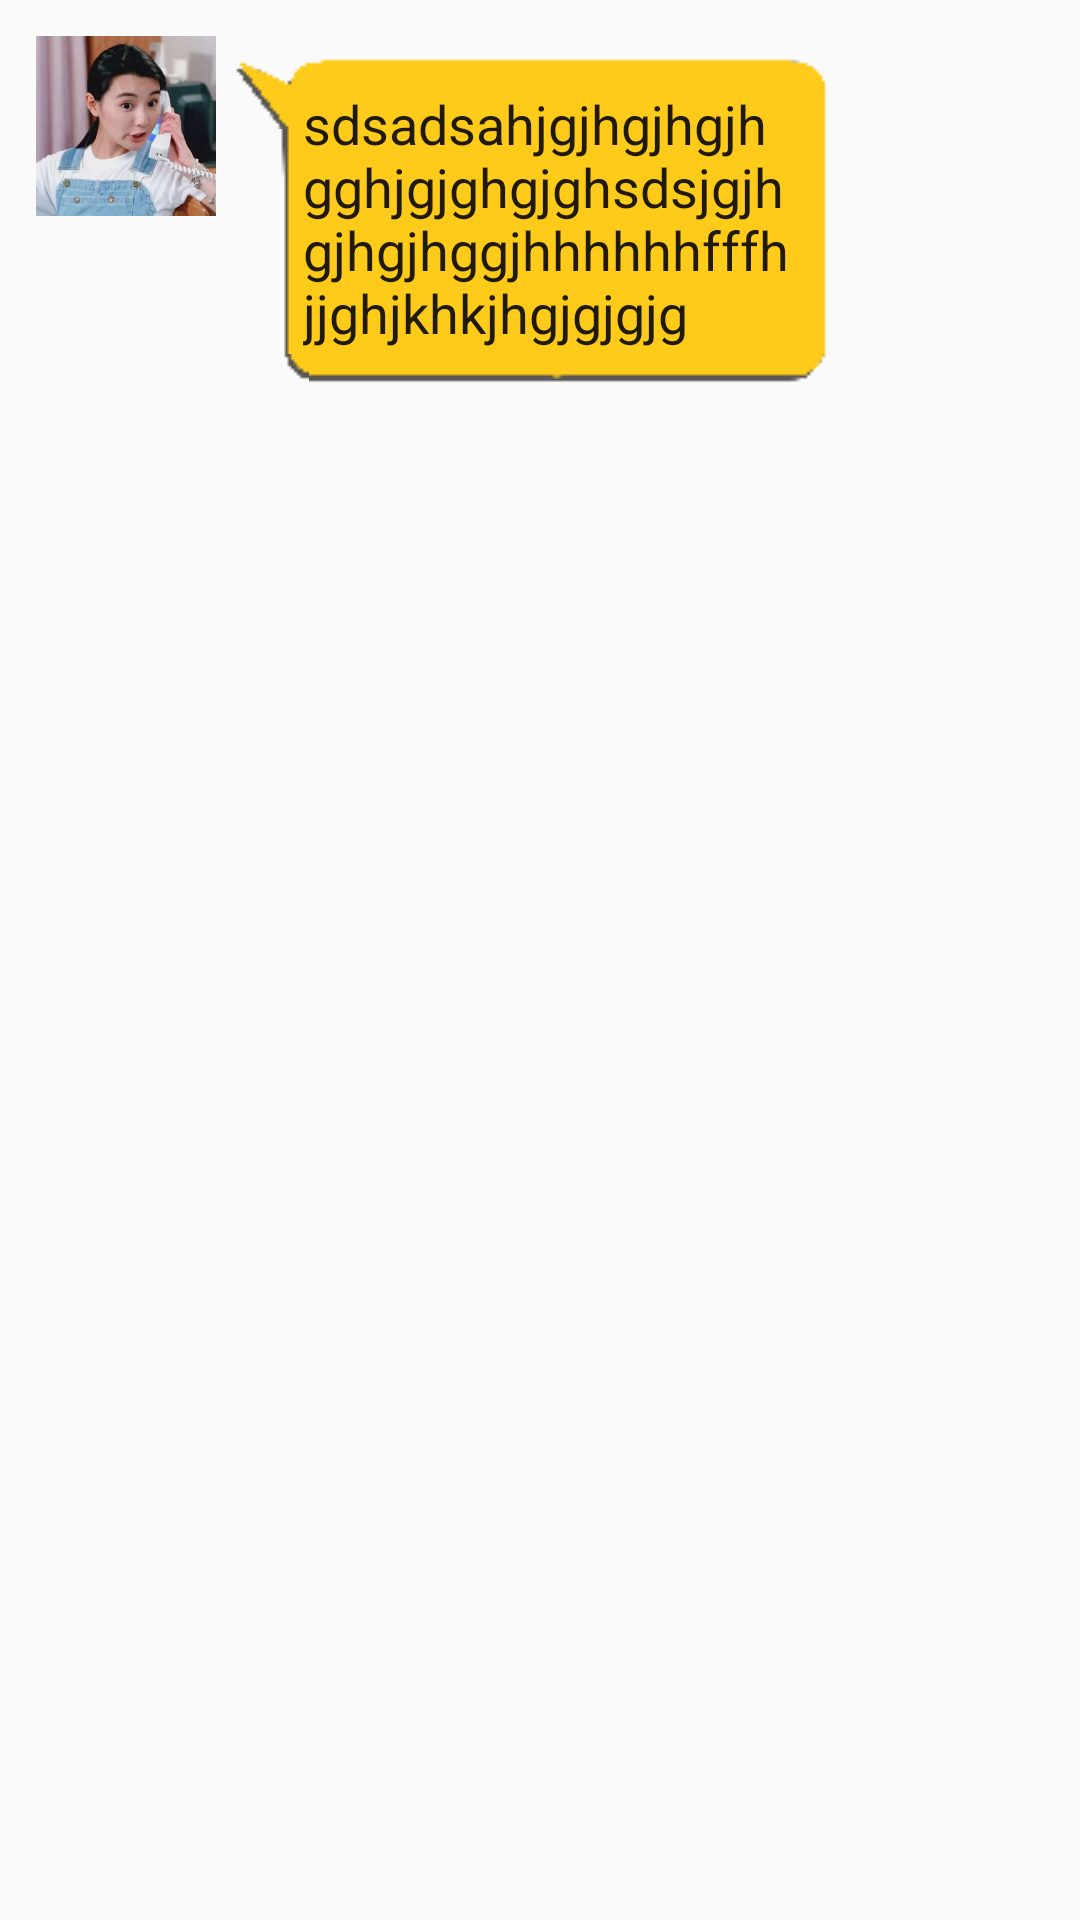

Icon bounding boxes for this 1080 × 1920 phone screenshot, format (left=x1, top=y1, right=x2, bottom=y2):
head: (left=36, top=36, right=216, bottom=216)
